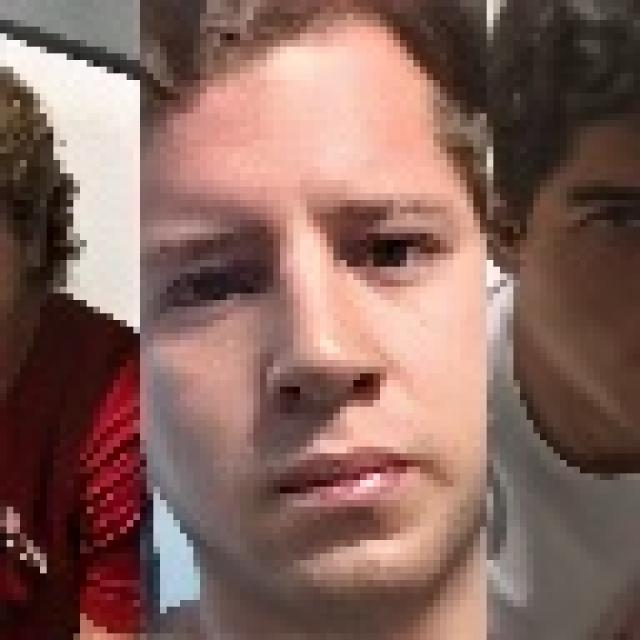sad: (133, 40, 540, 640)
